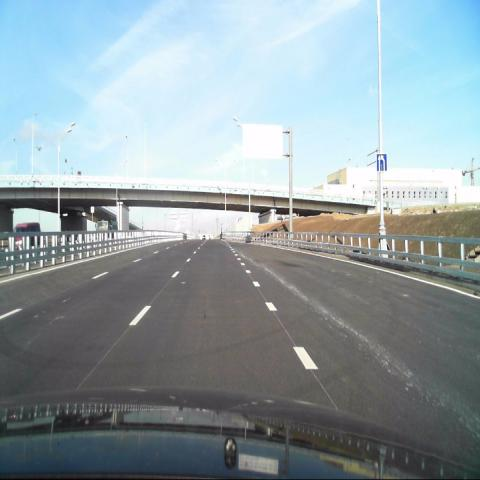5_15_5: (375, 153, 388, 172)
